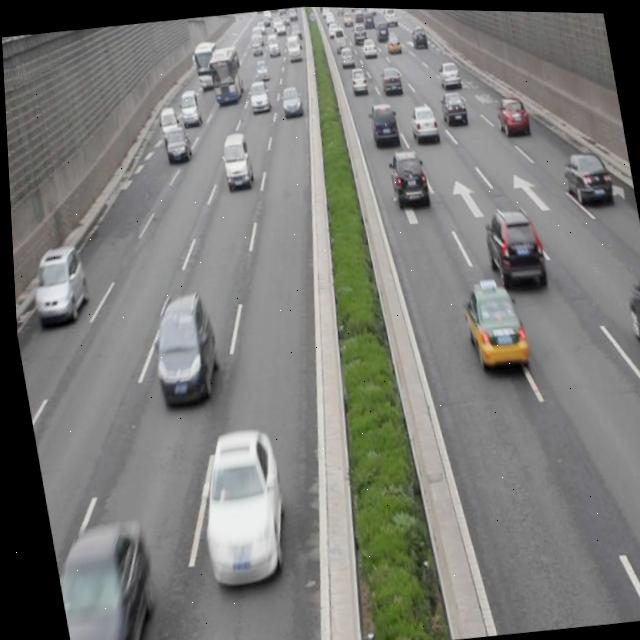car: (181, 426, 290, 590), (45, 524, 156, 640), (142, 295, 220, 406), (455, 273, 527, 375), (477, 203, 545, 295), (23, 243, 89, 325), (555, 144, 611, 206), (384, 146, 427, 210), (620, 267, 640, 356), (492, 91, 527, 132), (406, 104, 437, 142)
truck: (217, 132, 252, 186), (365, 100, 397, 145)
